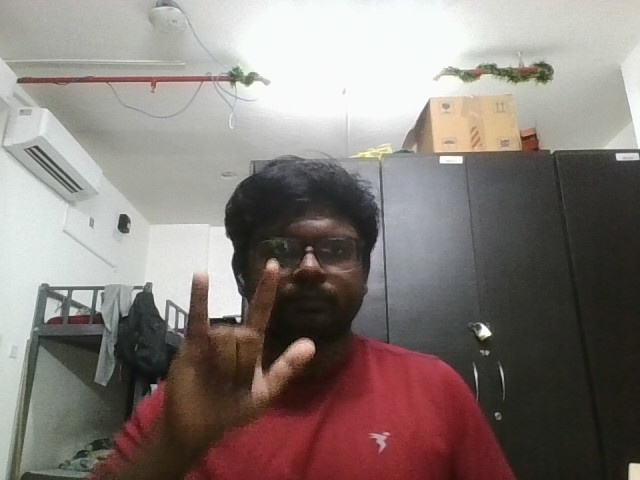I Love You: (161, 256, 324, 447)
